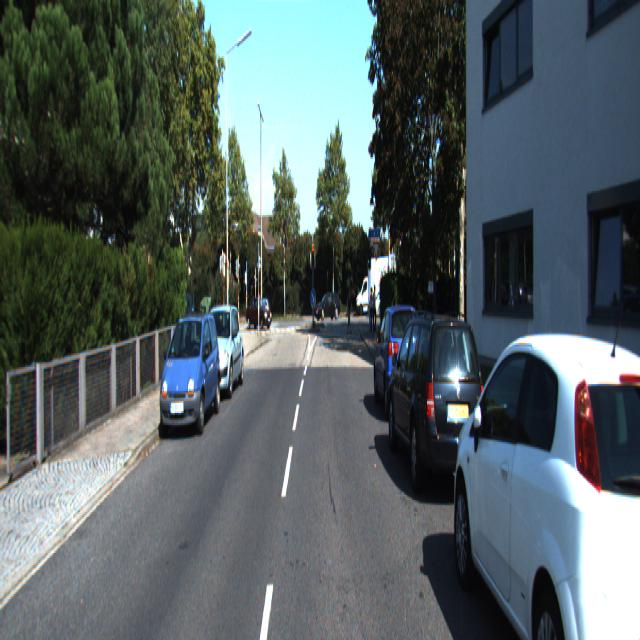Car: (451, 316, 639, 638), (386, 303, 492, 506), (158, 308, 222, 436), (372, 300, 427, 427), (196, 302, 244, 403), (354, 254, 392, 316)
